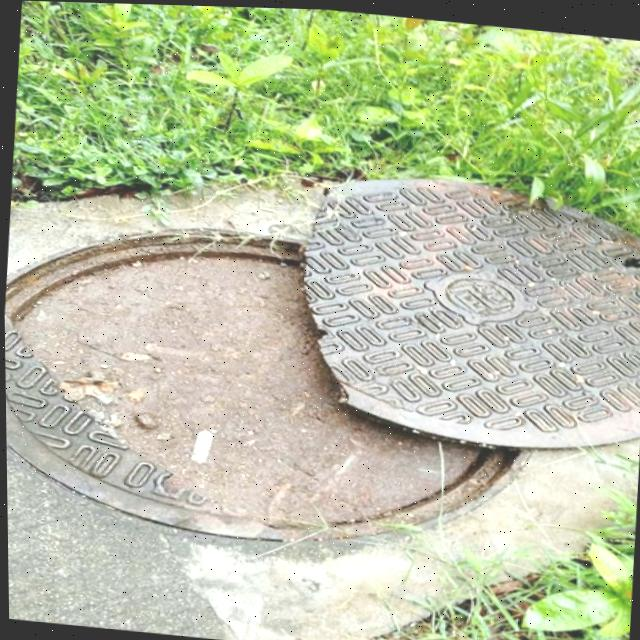manhole: (1, 122, 640, 574)
